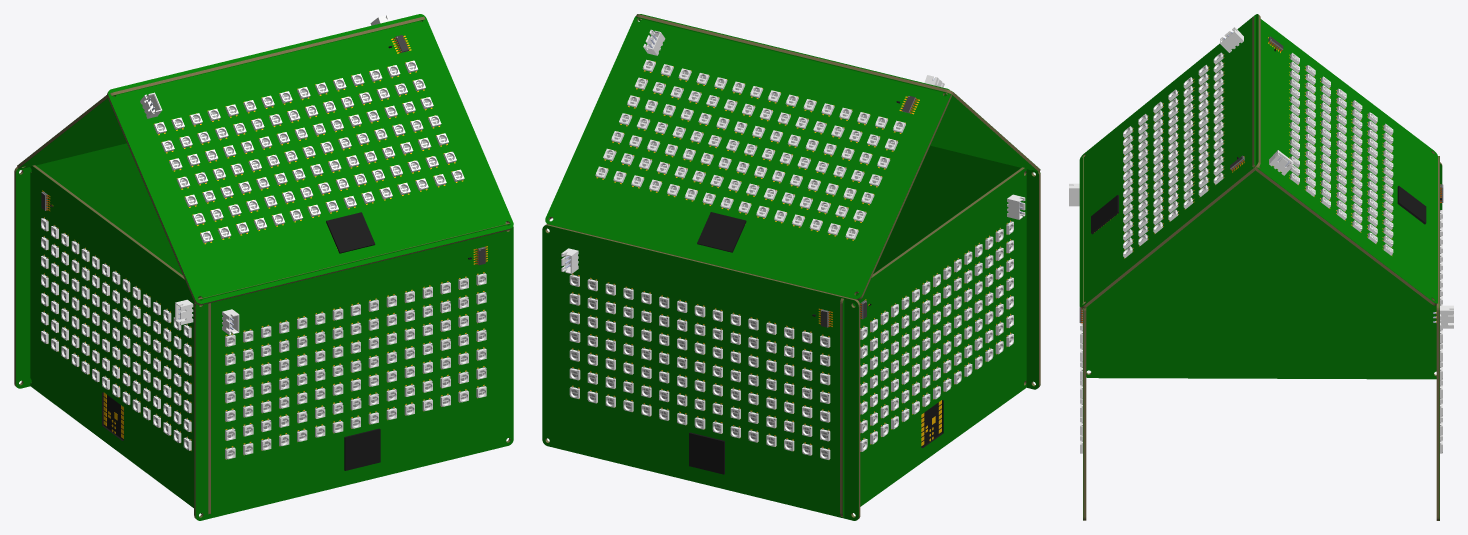
The model's file is pcbhouse.glb.
The picture shows the model from 3 angles, left to right: view 1: azimuth 30°, elevation 25°; view 2: azimuth 150°, elevation 25°; view 3: azimuth 270°, elevation 25°; orthographic projection. The views are drawn at different scales.
Parts seen in each view (by area): view 1: SemiTransparent(0,128,0), Opaque(255,255,255), Opaque(160,160,160), Opaque(120,110,70), Plastic - Matte (Black), Opaque(255,191,0); view 2: SemiTransparent(0,128,0), Opaque(255,255,255), Opaque(160,160,160), Opaque(120,110,70), Plastic - Matte (Black), Opaque(255,191,0); view 3: SemiTransparent(0,128,0), Opaque(255,255,255), Opaque(120,110,70), Opaque(160,160,160), Plastic - Matte (Black), Opaque(255,191,0).
Part boxes in pixels (box(x1,y1,x2,y2)): SemiTransparent(0,128,0): box(15, 14, 513, 520); Opaque(255,255,255): box(41, 14, 486, 459); Opaque(160,160,160): box(41, 63, 486, 459); Opaque(120,110,70): box(14, 16, 511, 518); Plastic - Matte (Black): box(50, 46, 471, 470); Opaque(255,191,0): box(42, 35, 487, 459); SemiTransparent(0,128,0): box(542, 14, 1040, 520); Opaque(255,255,255): box(561, 29, 1025, 459); Opaque(160,160,160): box(570, 62, 1012, 457); Opaque(120,110,70): box(545, 14, 1040, 519); Plastic - Matte (Black): box(689, 101, 943, 474); Opaque(255,191,0): box(572, 61, 1010, 459); SemiTransparent(0,128,0): box(1079, 14, 1442, 520); Opaque(255,255,255): box(1069, 27, 1453, 453); Opaque(120,110,70): box(1080, 14, 1442, 520); Opaque(160,160,160): box(1080, 53, 1442, 452); Plastic - Matte (Black): box(1091, 48, 1441, 234); Opaque(255,191,0): box(1094, 37, 1436, 323).
Bounding box in the file's own units: 0.541 × 0.5942 × 0.5779.
